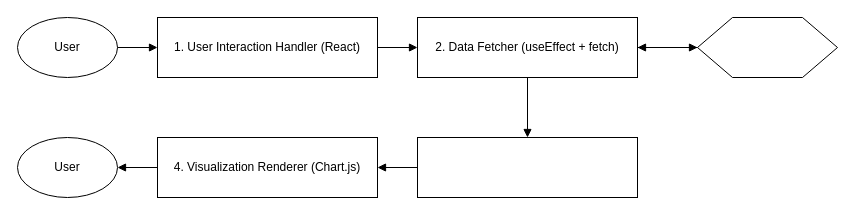
Some shapes in this 855 by 215 pixel diagram are drawn without their labels. Each missing label, with the centre of its shape:
"3. Data Transformer (filtering, mapping)" belongs at pixel 527 167.
"SpaceX Public API" belongs at pixel 767 47.
